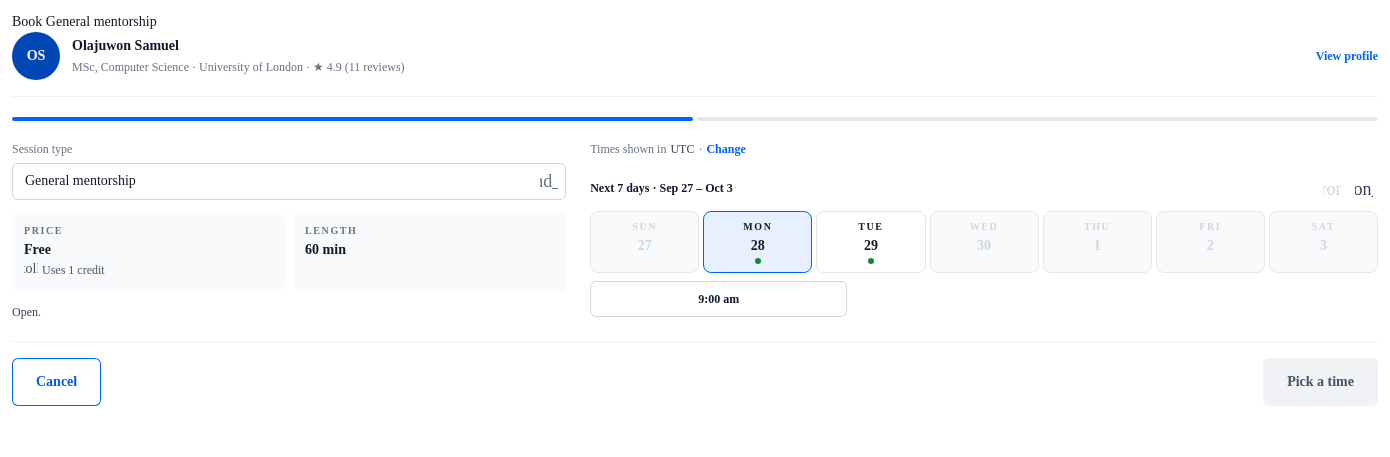
it: BookingFlow week view (7 days at a time) › a window that isn’t whole weeks: the last page stops at its end, labelled to it
Click the button with aria-label "Later dates" at [1364, 189], box 1350,175 -> 1378,203
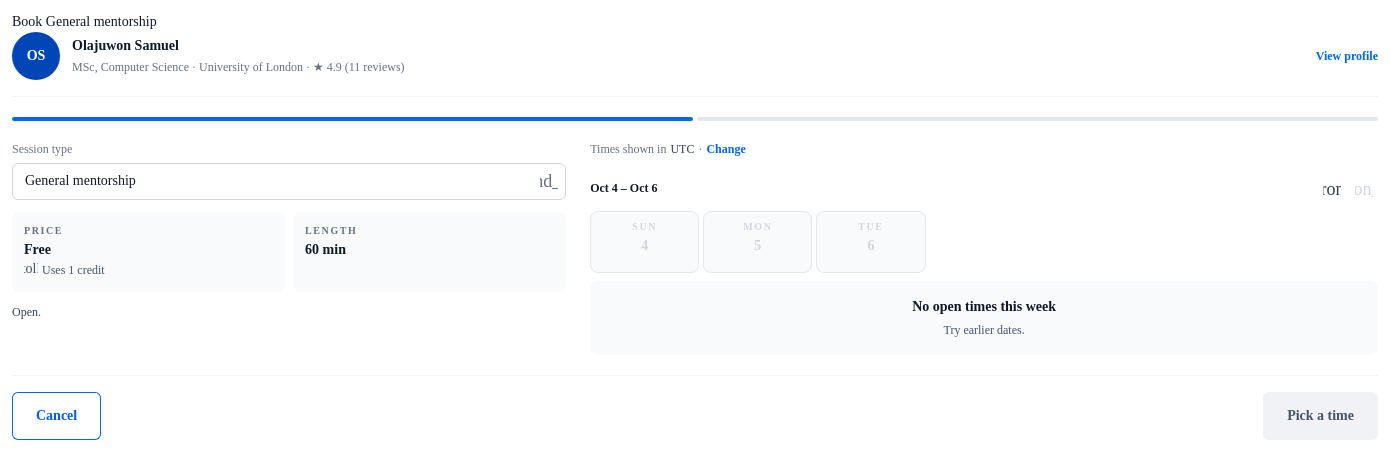
Expected: the text "Oct 4 – Oct 6" is shown, 590,180 -> 658,197
Expected: the button with aria-label "Later dates" is disabled, 1350,175 -> 1378,203
